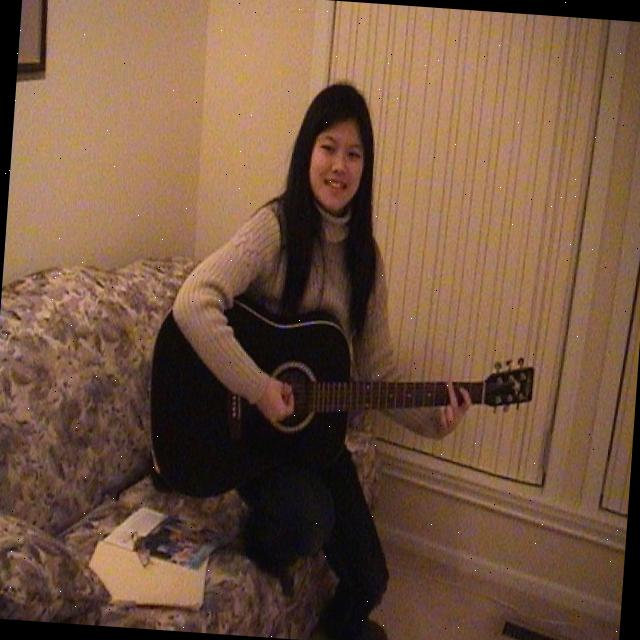guitar: (140, 288, 539, 524)
